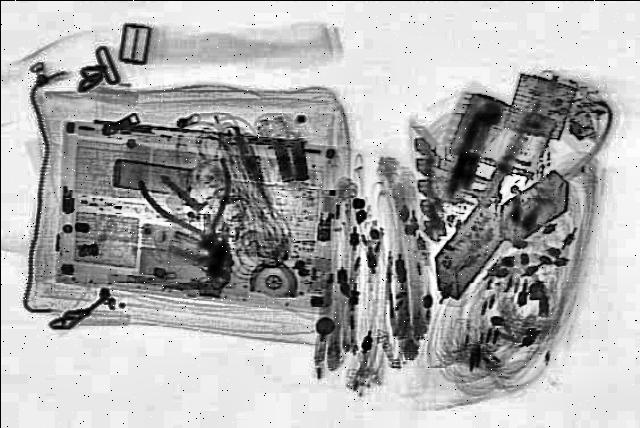Pliers: (130, 159, 270, 275)
